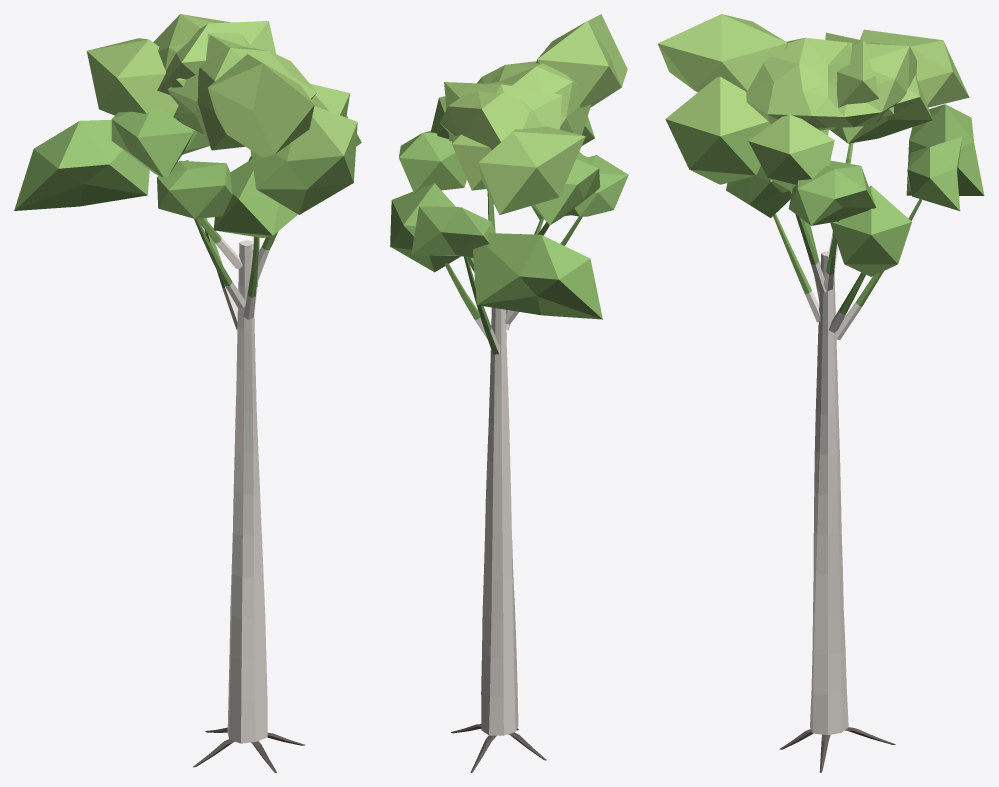
The model's file is tree_birch_medium.glb.
3 renders of one model, left to right at view 1: azimuth 30°, elevation 25°; view 2: azimuth 150°, elevation 25°; view 3: azimuth 270°, elevation 25°, orthographic. The views are drawn at different scales.
Visible parts, largest first — view 1: Tree_Birch_Medium_Top, Tree_Birch_Medium_Base; view 2: Tree_Birch_Medium_Top, Tree_Birch_Medium_Base; view 3: Tree_Birch_Medium_Top, Tree_Birch_Medium_Base.
Boxes of the visible parts, <box> form: Tree_Birch_Medium_Top: <box>14,14,361,535</box>; Tree_Birch_Medium_Base: <box>193,532,305,772</box>; Tree_Birch_Medium_Top: <box>390,14,628,540</box>; Tree_Birch_Medium_Base: <box>451,537,546,772</box>; Tree_Birch_Medium_Top: <box>657,14,984,535</box>; Tree_Birch_Medium_Base: <box>779,530,895,772</box>.
Size of the model in its own units: 7.1 by 18.1 by 7.51.
